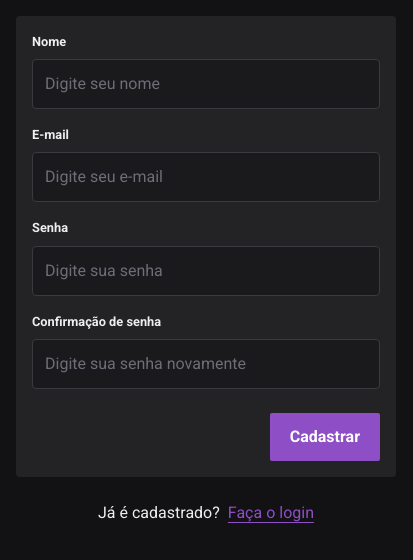
Test: SignupForm › should show error if passwords do not match
The image size is (413, 560).
Type "John Doe" into the field labelled "Nome" at (206, 84), box x1=32 y1=59 x2=380 y2=109
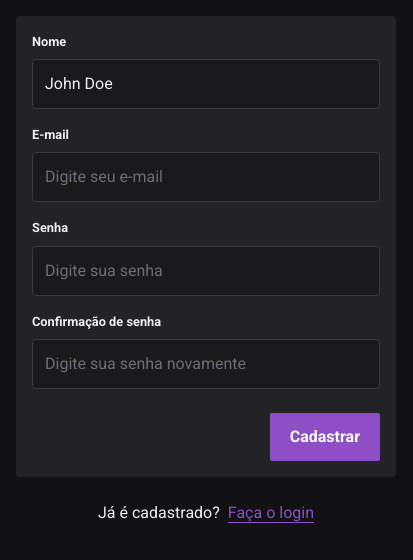
Type "john@example.com" into the field labelled "E-mail" at (206, 177), box x1=32 y1=152 x2=380 y2=202
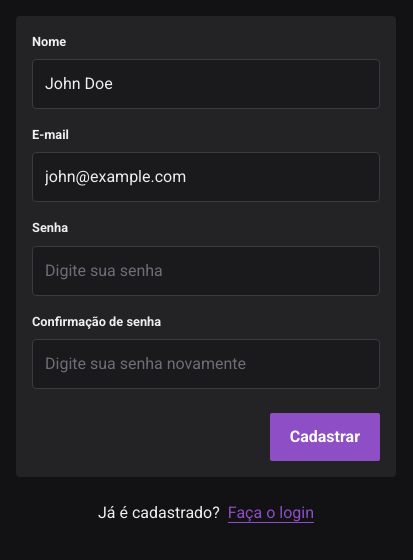
Type "password123" into the password field labelled "Senha" at (206, 271), box x1=32 y1=246 x2=380 y2=296
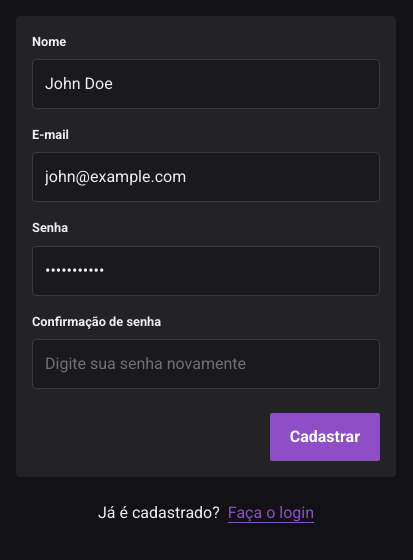
Type "password321" into the password field labelled "Confirmação de senha" at (206, 364), box x1=32 y1=339 x2=380 y2=389
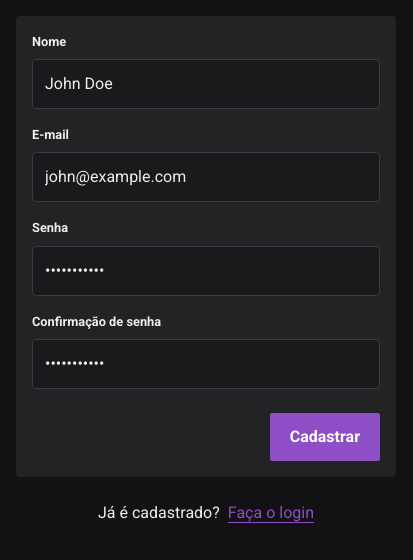
Click the button "Cadastrar" at (325, 437), box x1=270 y1=413 x2=380 y2=461
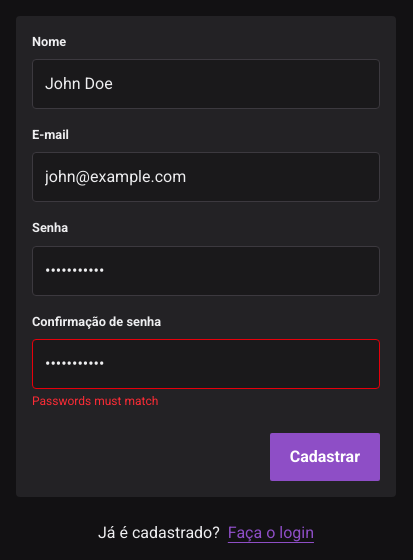
Now the text "Passwords must match" is shown, box x1=32 y1=394 x2=158 y2=408
